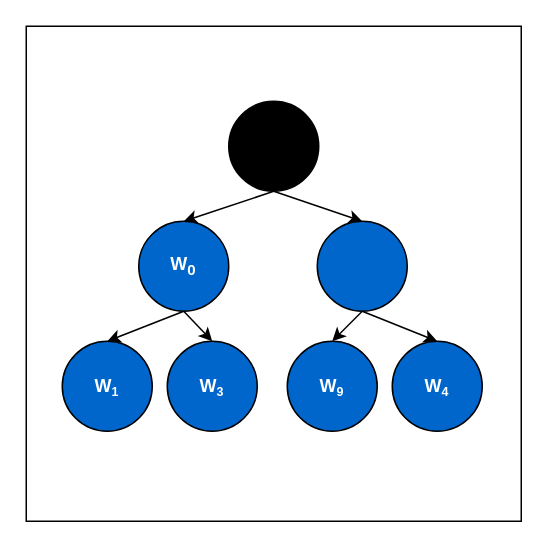
This 548x548 diagram has some shape labels left out. The shapes that lost their labels are listed below. From the top down, each one's centre as x and y in pixels, then its label:
point (273, 145): W 2
point (361, 265): W 6
